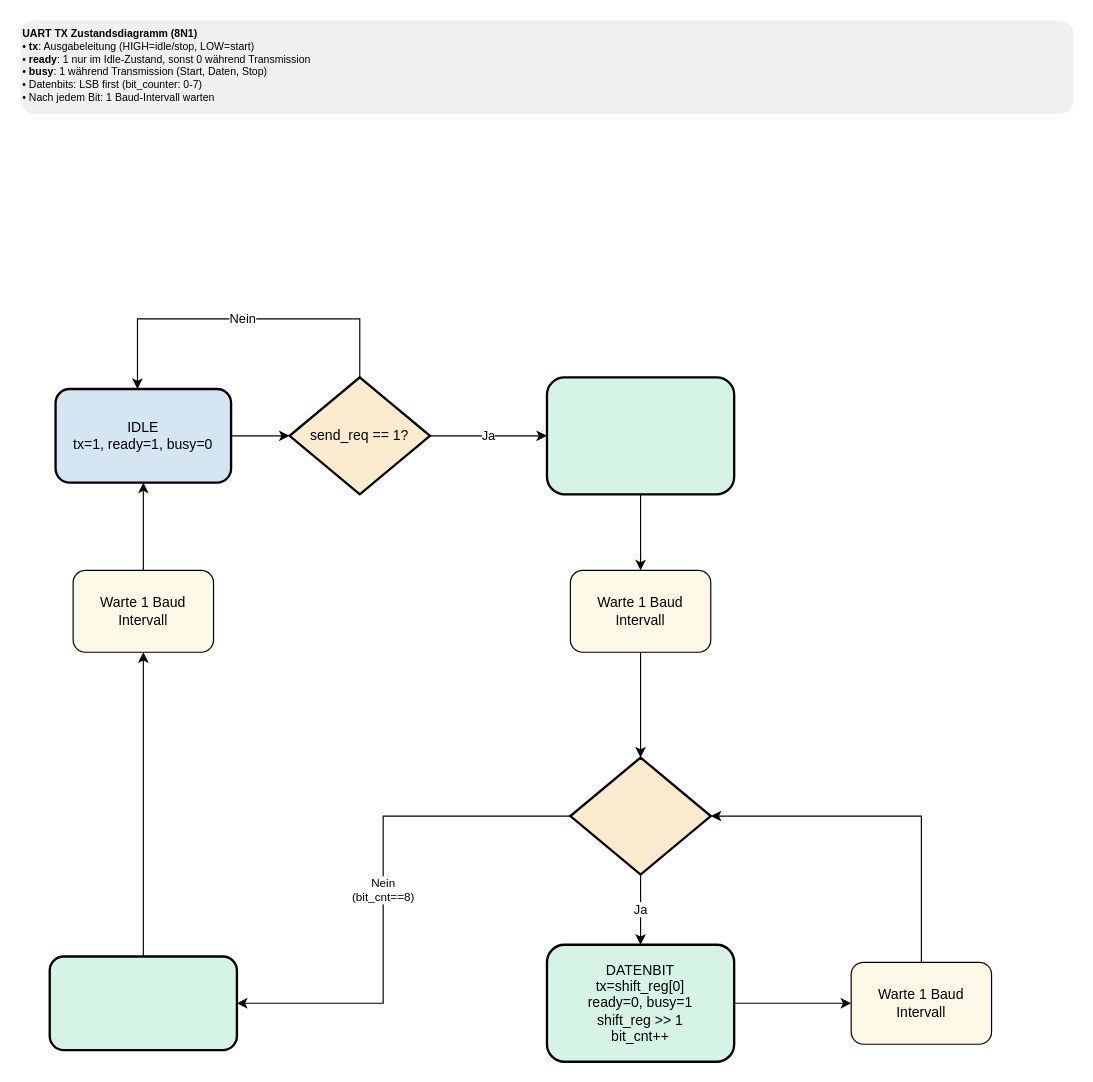
Image size: 1093x1082. Some labels were removed from this diagram. Here are the shapes that lost their labels. From the top down, the centre of each, then its label:
At (640,435): "START BIT tx=0, ready=0, busy=1 bit_cnt=0, baud_cnt=0 shift_reg=data_in".
At (640,815): "bit_cnt < 8?".
At (143,1003): "STOPBIT tx=1, ready=0, busy=1".
